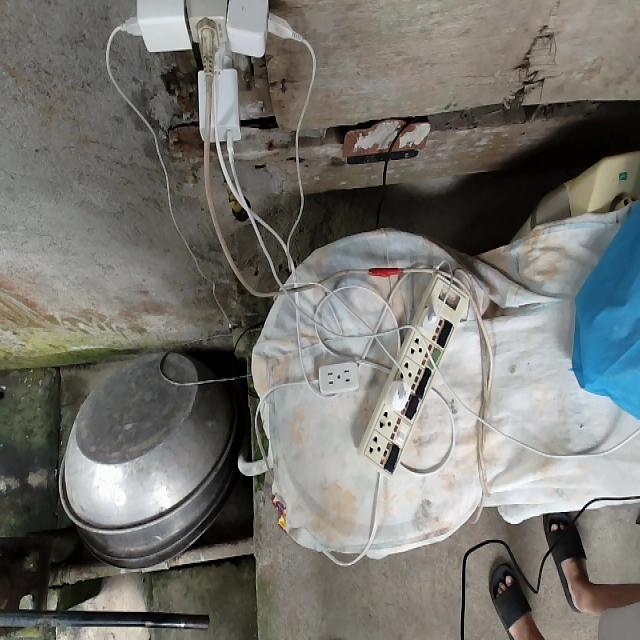-: (114, 0, 290, 155)
